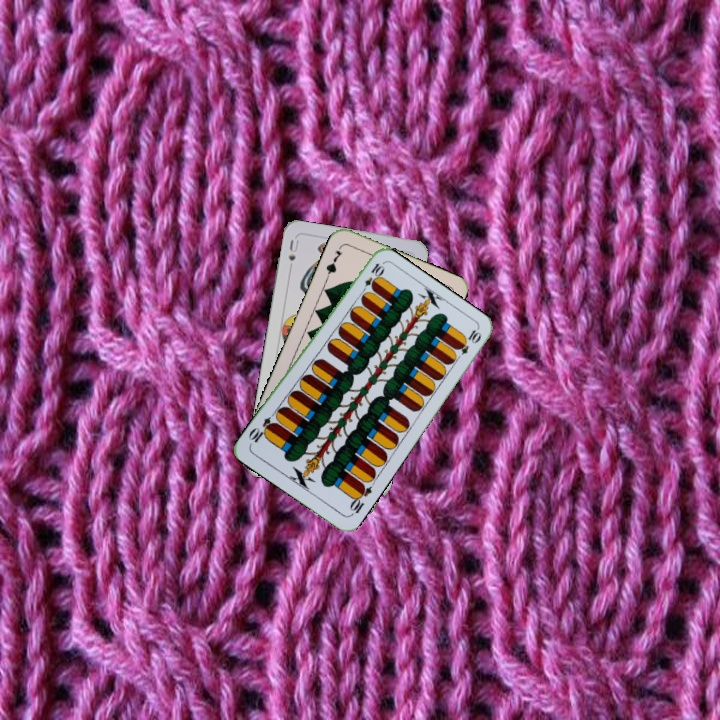E10: (345, 480, 375, 518), (357, 259, 386, 297)
G7: (322, 242, 345, 281)
SU: (284, 235, 301, 275)
